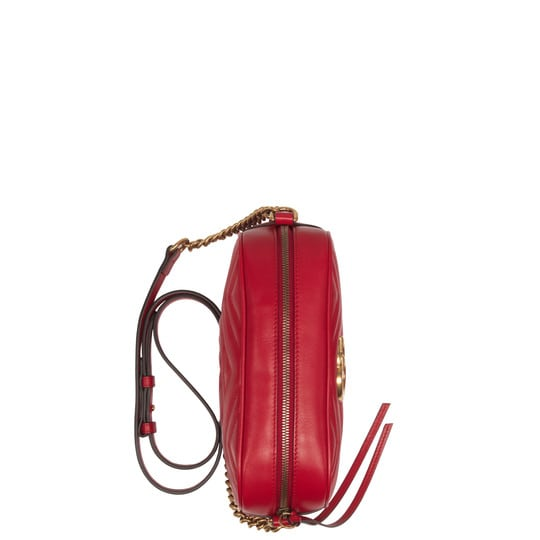Gucci: (201, 188, 383, 540)
